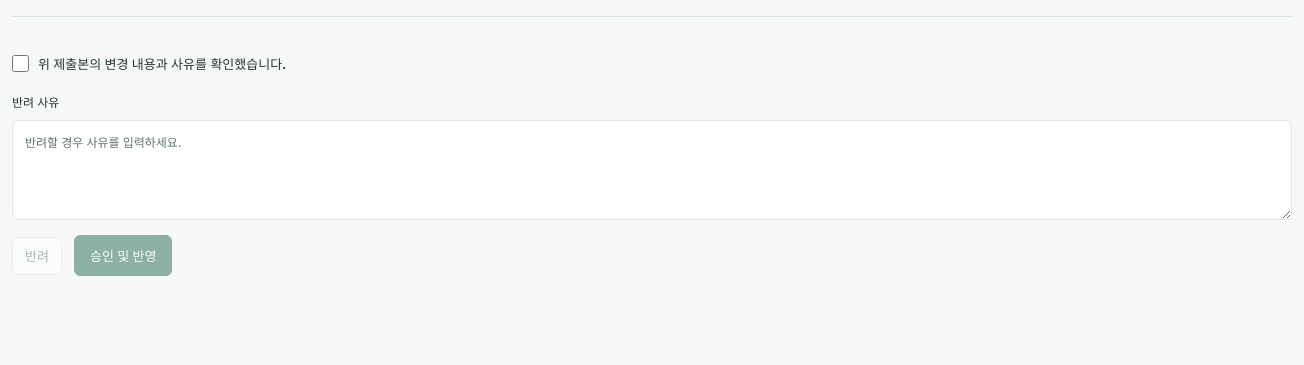
Test: 충돌 시 제출본을 바꾸거나 완료 상태로 전환하지 않는다
Click the checkbox at (20, 64), box [12,55,29,72]
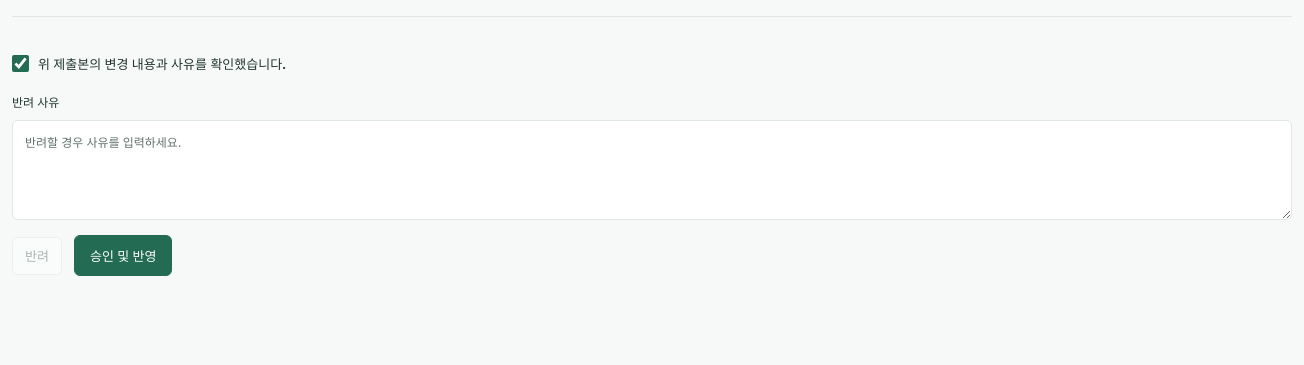
Click the button "승인 및 반영" at (123, 256), box [74,235,172,276]
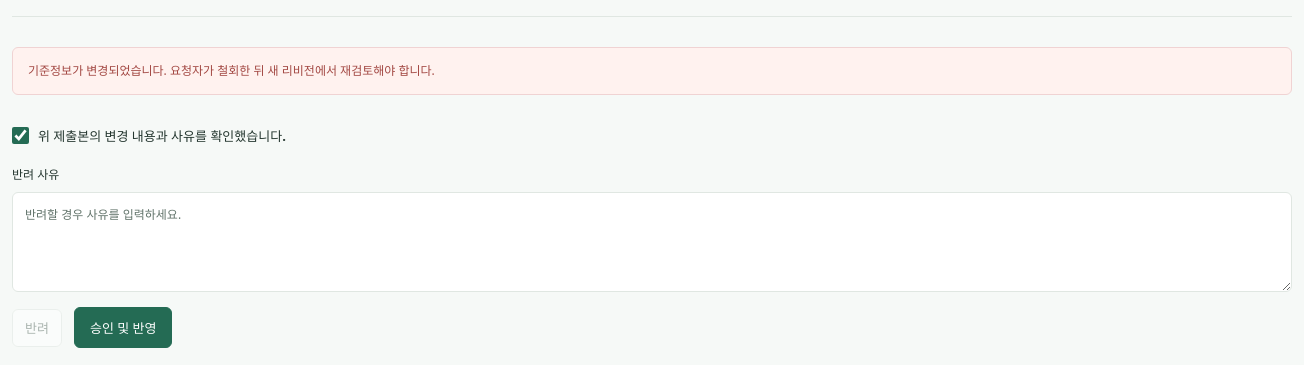
Expected: the message shows "새 리비전", [28,62,435,79]
